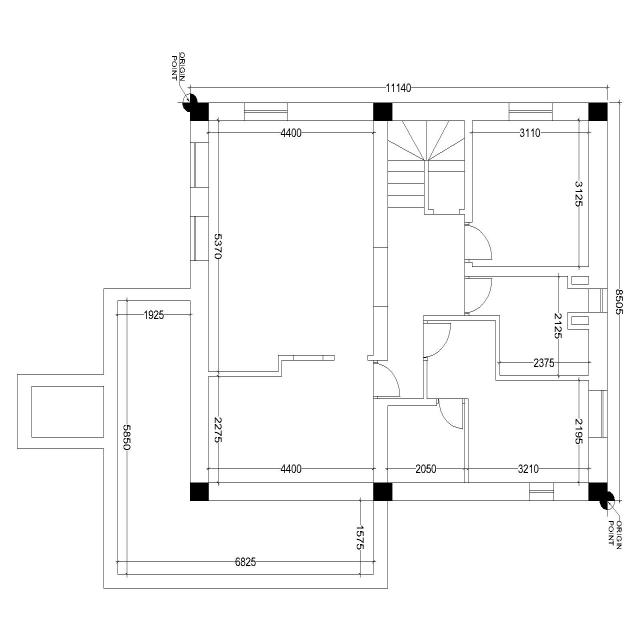Column: (373, 482, 393, 502), (190, 482, 210, 502), (372, 102, 393, 121), (588, 102, 608, 121), (588, 482, 608, 501), (190, 102, 209, 121)
Door: (463, 278, 493, 314), (463, 224, 493, 260), (423, 322, 452, 358), (373, 362, 401, 398), (438, 398, 463, 431)
Staircase: (388, 120, 466, 216)
Window: (588, 390, 608, 439), (189, 215, 210, 261), (190, 142, 210, 189), (508, 102, 553, 122), (244, 102, 288, 120), (588, 287, 609, 314), (529, 482, 555, 502)
